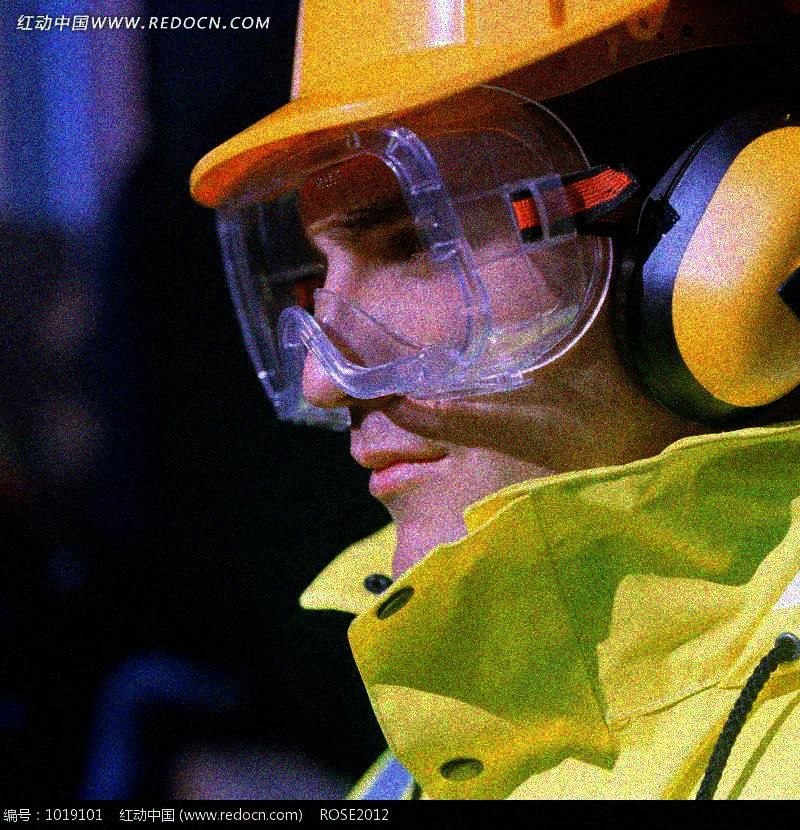helmet: (194, 1, 800, 579)
